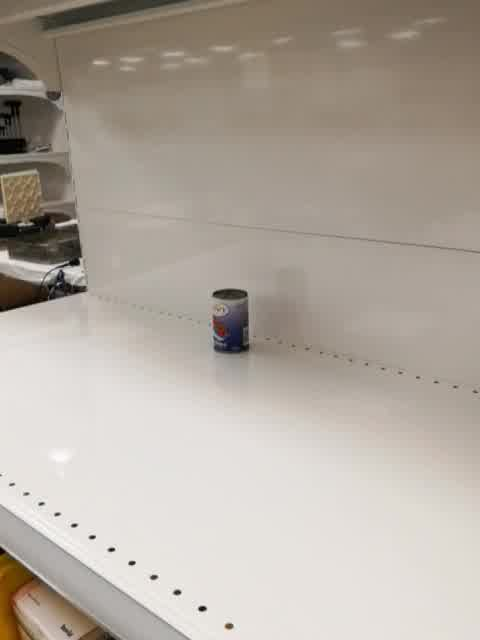sardine: (210, 286, 251, 356)
